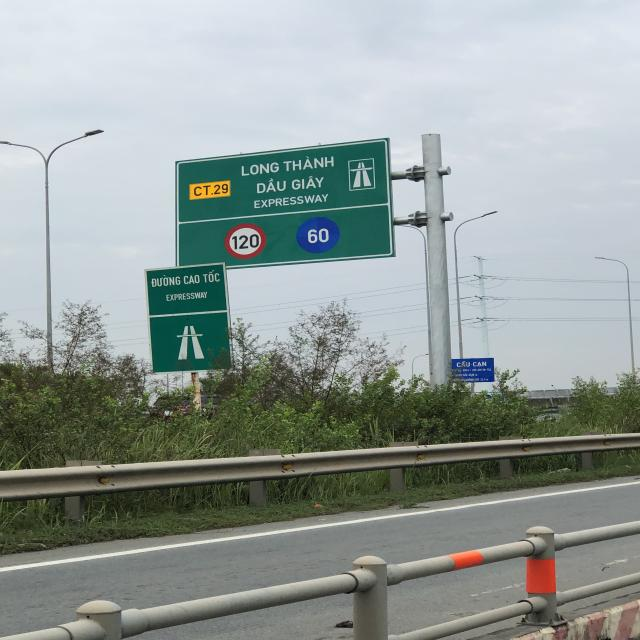Bien bao toc do toi thieu cho phep: (294, 216, 342, 255)
